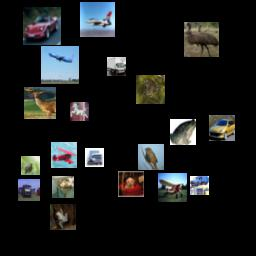airplane: (41, 46, 79, 84), (80, 2, 115, 37), (158, 173, 187, 202), (51, 142, 77, 168)
automobile: (23, 7, 61, 45), (209, 115, 235, 141)
bird: (184, 22, 219, 57), (138, 144, 164, 170)
cat: (52, 176, 74, 198)
deer: (24, 87, 56, 119)
dog: (118, 171, 144, 197)
frog: (136, 75, 165, 104), (170, 119, 196, 145), (50, 204, 76, 230), (21, 156, 40, 175)
truck: (18, 179, 40, 201), (85, 148, 104, 167), (107, 57, 126, 76), (190, 176, 209, 195)
